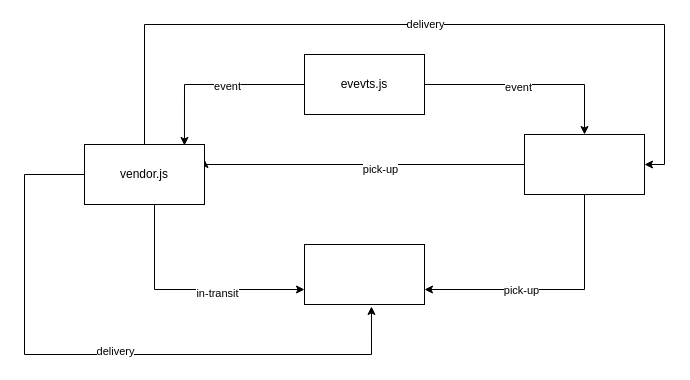
Some shapes in this 690 by 380 pixel diagram are drawn without their labels. The shapes that lost their labels are listed below. From the top down, each one's centre as x and y in pixels, then its label:
At pixel 584 164: "driver.js".
At pixel 364 274: "caps.js".
